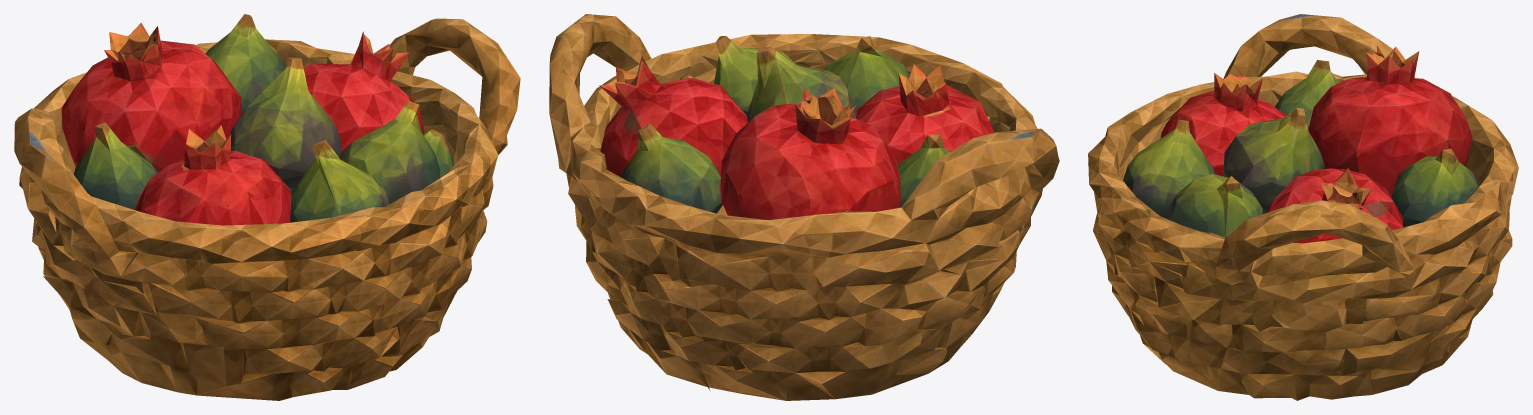
Rendered from fruit-basket.glb.
3 views of the same model, side by side, from view 1: azimuth 30°, elevation 25°; view 2: azimuth 150°, elevation 25°; view 3: azimuth 270°, elevation 25° (orthographic). The views are drawn at different scales.
Bounding box in the file's own units: 1.9 × 1.11 × 1.65.
1 material, 1 textured.
